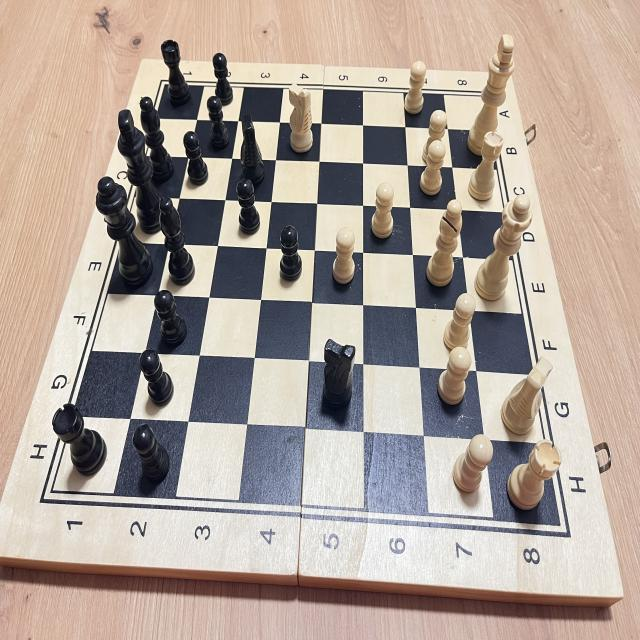black-bishop: (152, 189, 200, 290), (136, 94, 178, 185)
black-king: (110, 101, 170, 233)
black-knight: (316, 334, 361, 420), (232, 107, 270, 193)
black-pawn: (129, 416, 174, 490), (134, 341, 178, 412), (148, 286, 194, 350), (273, 218, 307, 290), (180, 126, 214, 194), (232, 178, 264, 242), (210, 48, 240, 115), (200, 92, 232, 152)
black-queen: (90, 167, 160, 289)
black-rook: (47, 395, 107, 481), (158, 35, 195, 108)
white-bishop: (421, 194, 463, 301)
white-king: (462, 28, 516, 168)
white-knight: (499, 342, 555, 442), (281, 78, 317, 156)
white-pawn: (450, 422, 494, 511), (432, 341, 472, 418), (325, 222, 362, 289), (442, 290, 476, 357), (417, 106, 451, 170), (412, 139, 447, 200), (399, 54, 430, 118), (368, 182, 398, 244)
white-queen: (474, 184, 535, 315)
white-rook: (502, 436, 568, 522), (465, 124, 504, 213)
